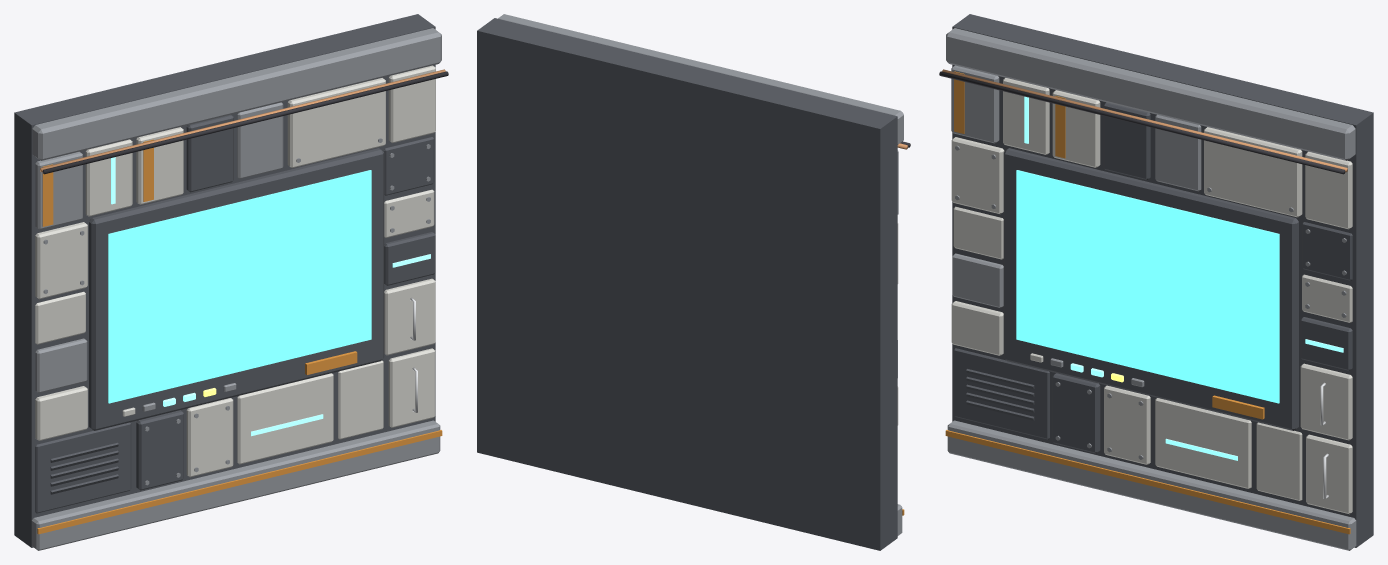
The model's file is wall_screen.glb.
3 renders of one model, left to right at view 1: azimuth 30°, elevation 25°; view 2: azimuth 150°, elevation 25°; view 3: azimuth 330°, elevation 25°, orthographic.
Visible parts, largest first — view 1: wall_screen; view 2: wall_screen; view 3: wall_screen.
Part boxes in pixels (bbox=[...]): wall_screen: bbox=[14, 14, 448, 550]; wall_screen: bbox=[477, 14, 910, 550]; wall_screen: bbox=[939, 14, 1373, 550].
Bounding box in the file's own units: 4 × 4 × 0.525.
